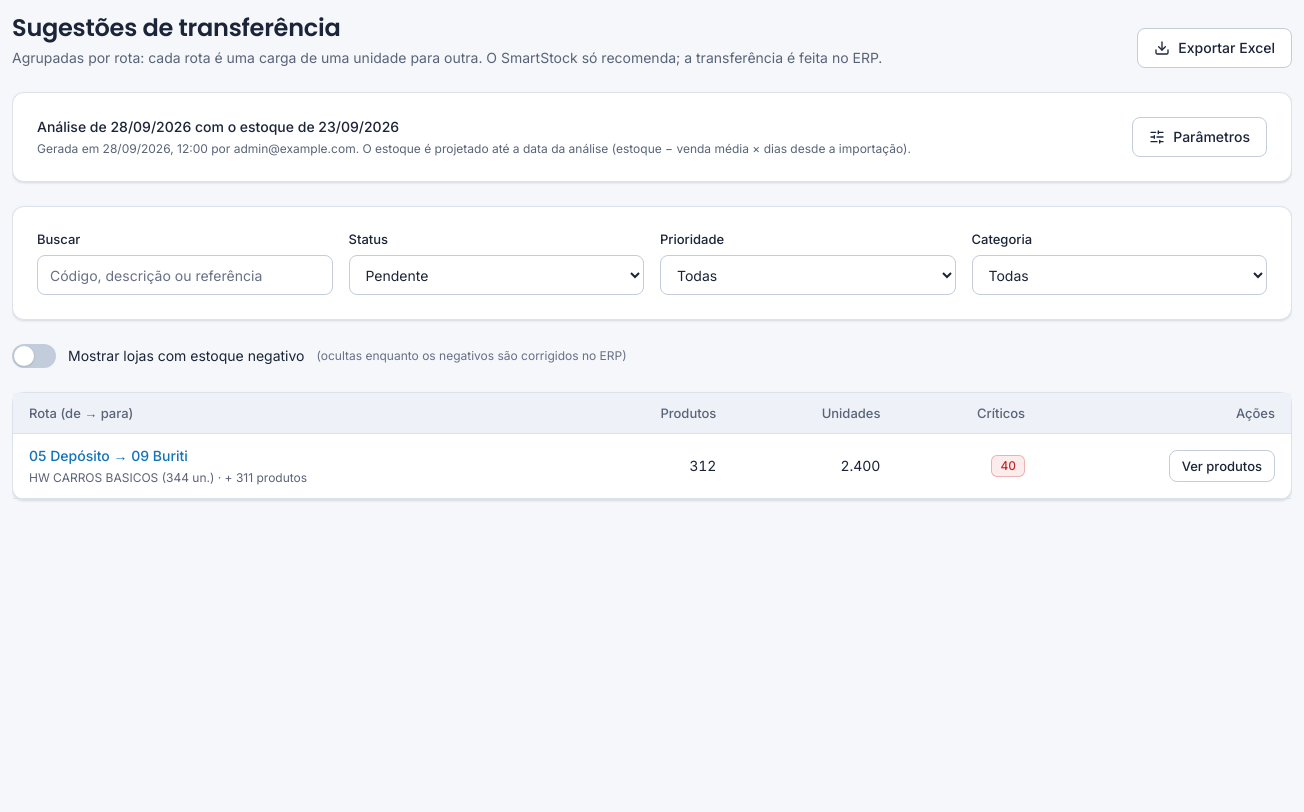
it: SuggestionsPage › dentro da rota mostra o estoque do ERP e o aviso de negativo
The width and height of the screenshot is (1304, 812).
What coordinates should you click on to do the following:
click the button "05 Depósito → 09 Buriti"
I would click on:
 (108, 456)
Its box is [29, 446, 557, 466].
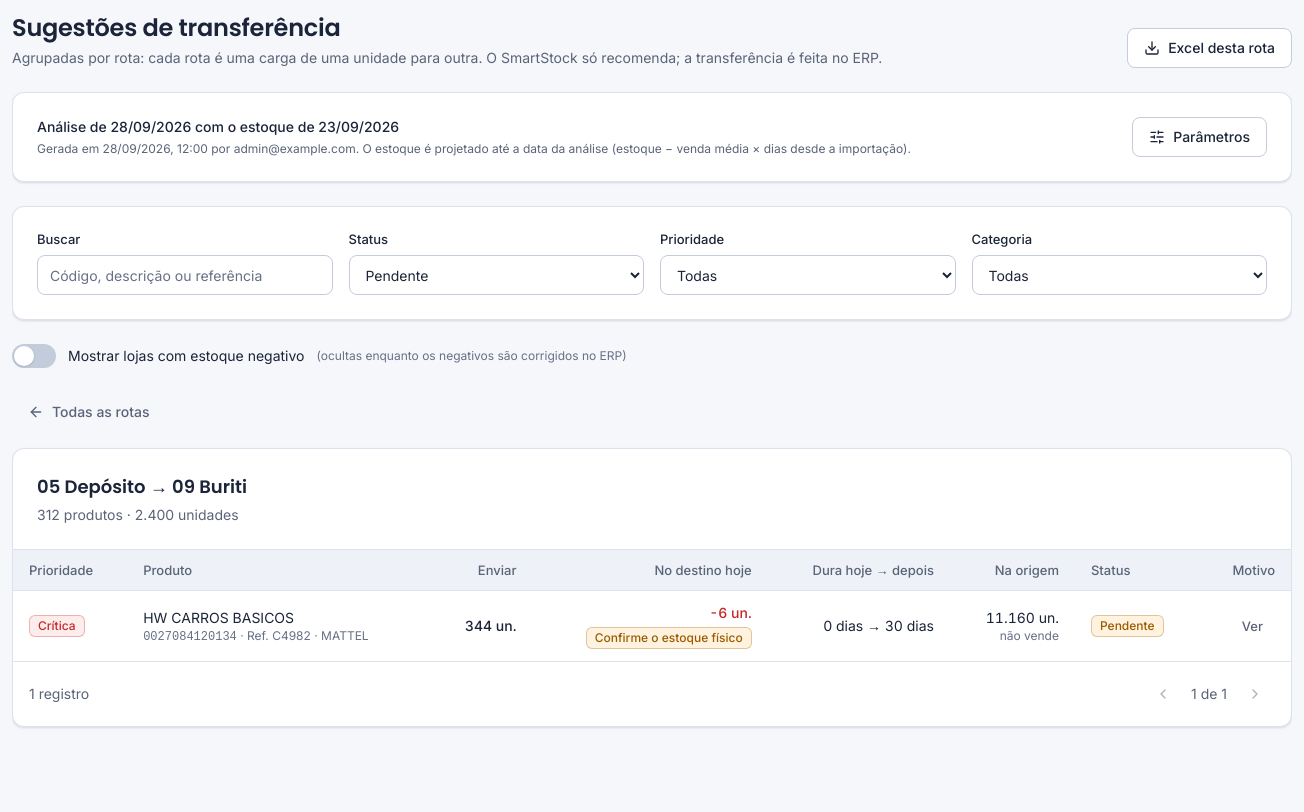
Expected: the text "HW CARROS BASICOS" is shown, [143, 608, 294, 626]
Expected: the text "-6 un." is shown, [709, 603, 752, 623]
Expected: the text "Confirme o estoque físico" is shown, [586, 627, 752, 649]
